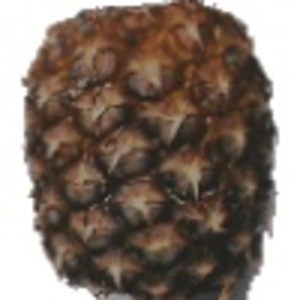abacaxi: (14, 1, 281, 298)
